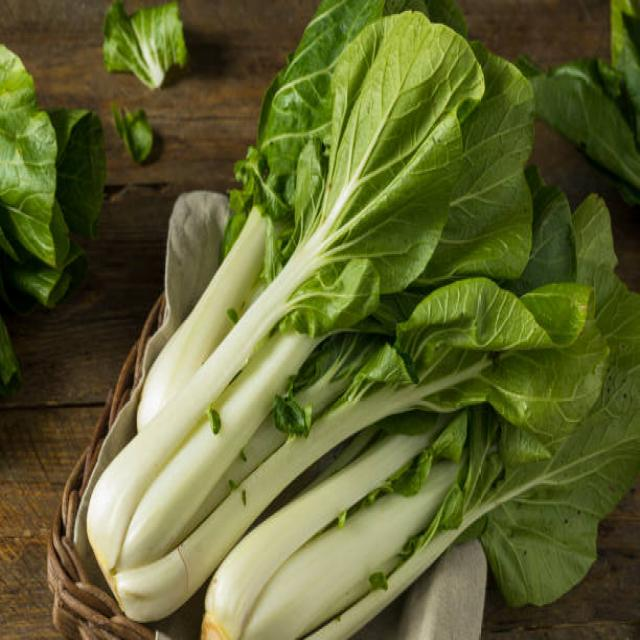Bok Choy: (73, 62, 447, 403), (249, 434, 632, 572)
